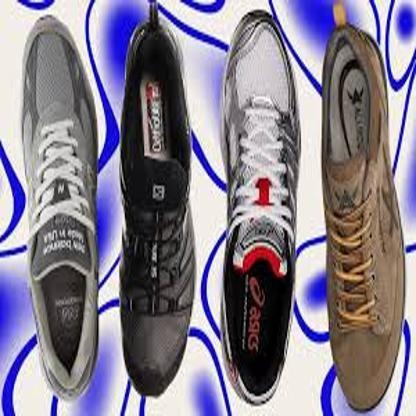not trash: (317, 16, 410, 414), (218, 5, 301, 409), (16, 16, 101, 396), (116, 15, 198, 404)
